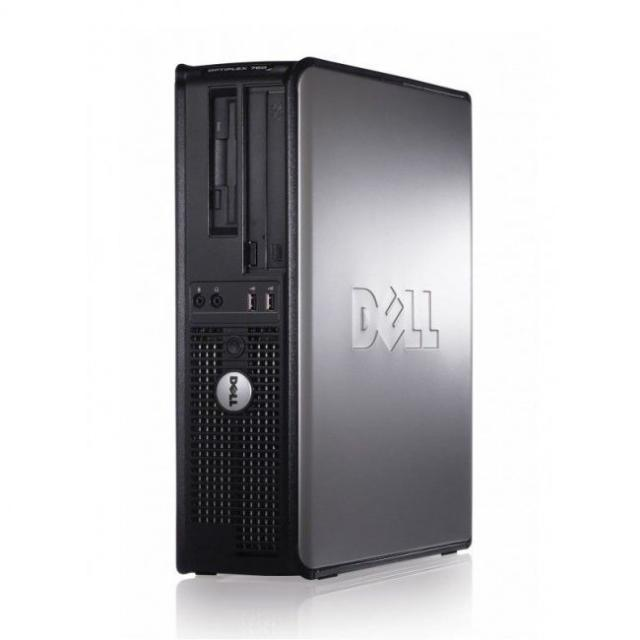Desktop-PC: (175, 61, 472, 570)
